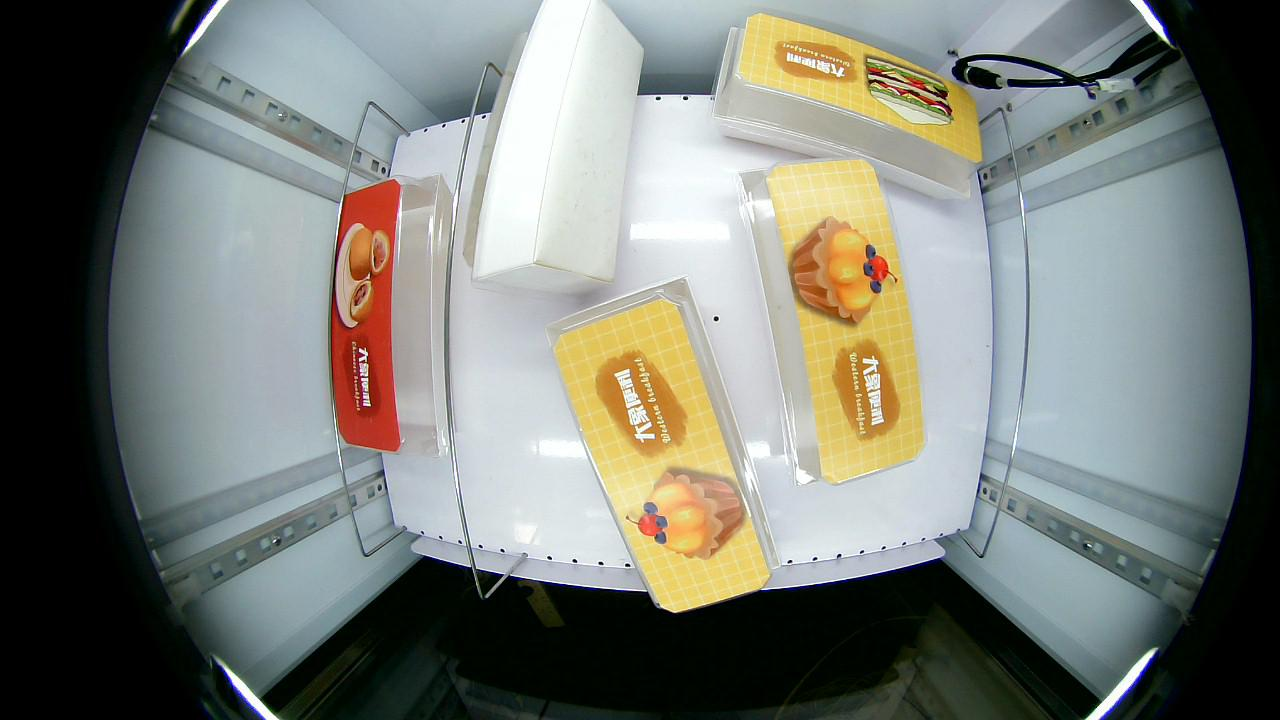goods: (785, 216, 894, 323), (633, 462, 744, 558), (856, 44, 958, 127), (334, 216, 391, 329)
